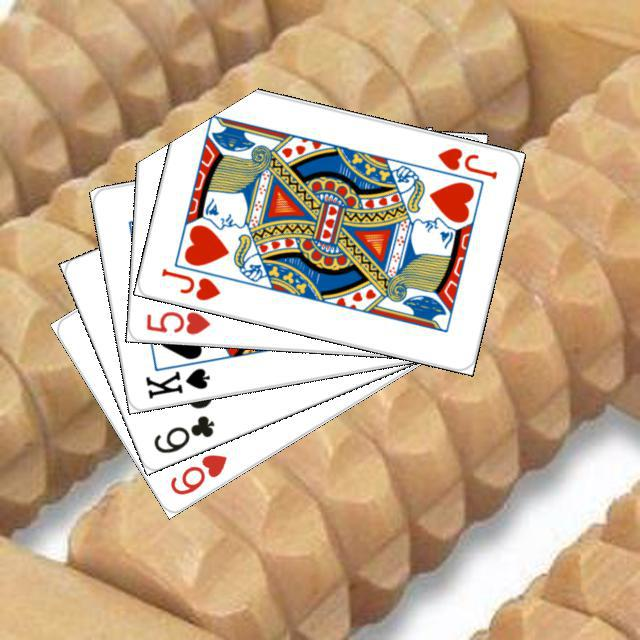5h: (141, 306, 212, 336)
6c: (148, 410, 216, 455)
6h: (165, 449, 229, 497)
Jh: (156, 263, 222, 303), (433, 142, 499, 181)
Ks: (140, 363, 212, 401)
